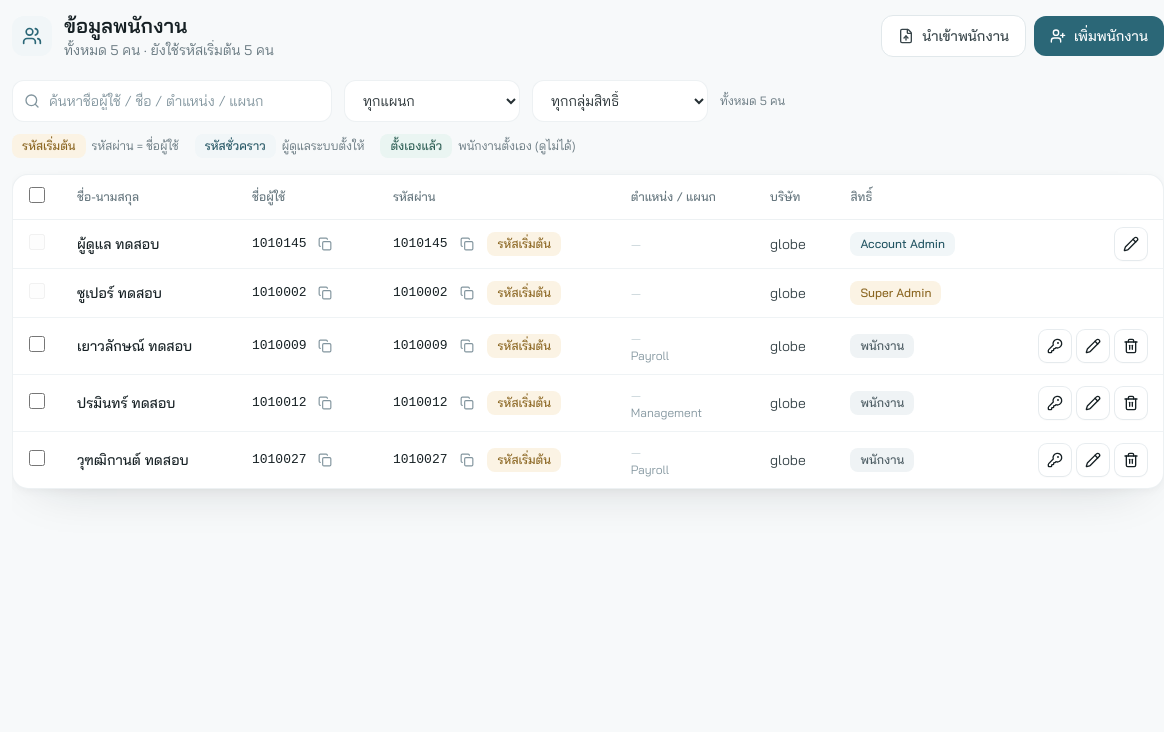
Test case: EmployeeListPage — selecting and deleting several at once › select all covers only the people the search is showing
Expected: the link "ปรมินทร์ ทดสอบ" is shown, [77,394,176,412]
Type "ปรมินทร์" into the field with placeholder "ค้นหาชื่อผู้ใช้ / ชื่อ / ตำแหน่ง / แผนก" at (172,101), box [12,80,332,122]
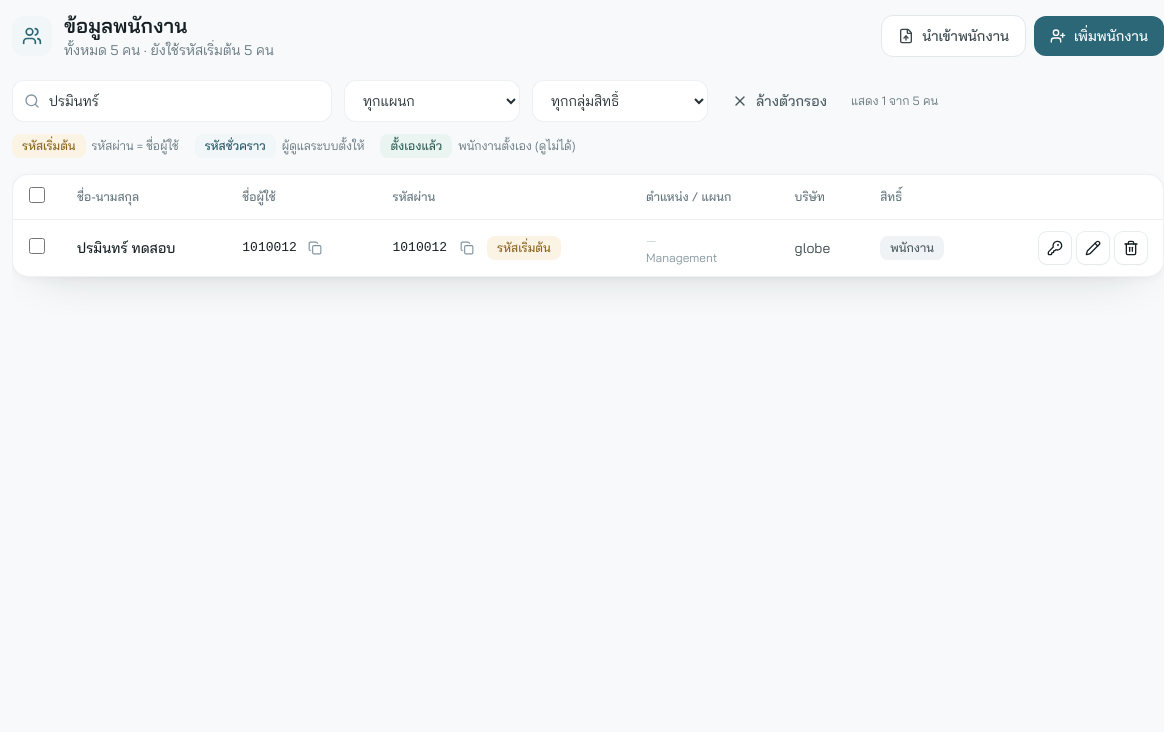
Click the checkbox named "เลือกทั้งหมด" at (37,195), box [29,187,45,203]
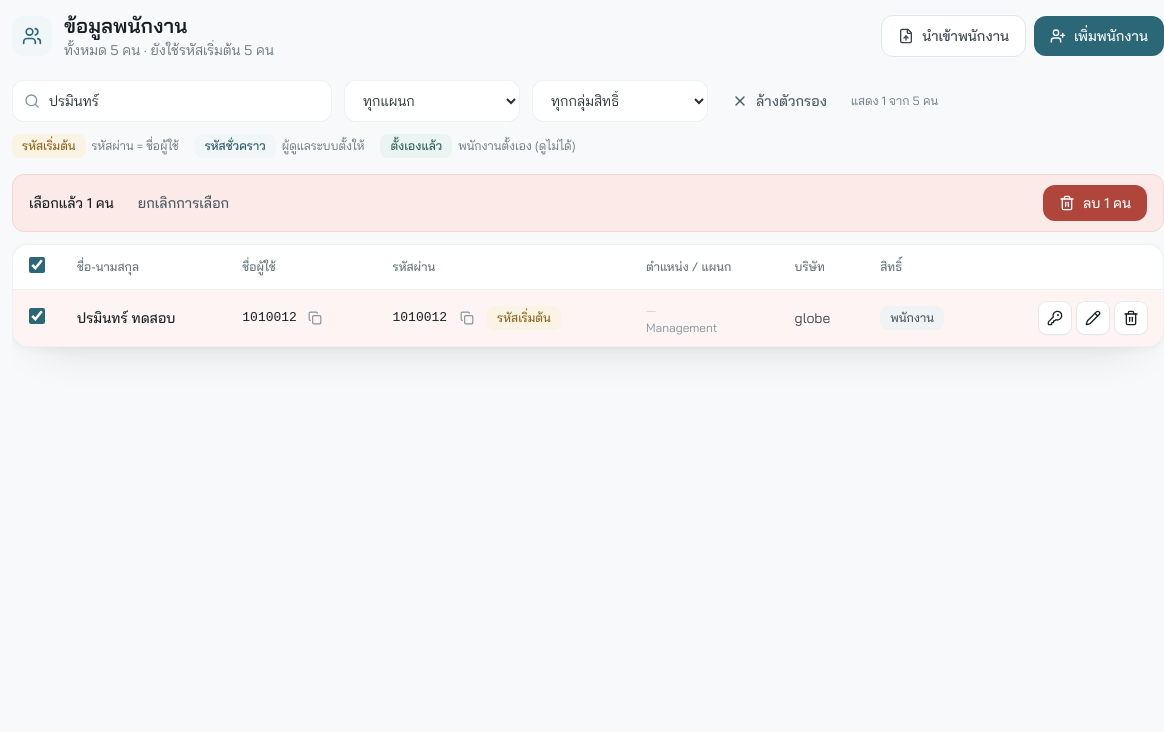
Now the button "ลบ 1 คน" is shown, box [1043,185,1147,221]
